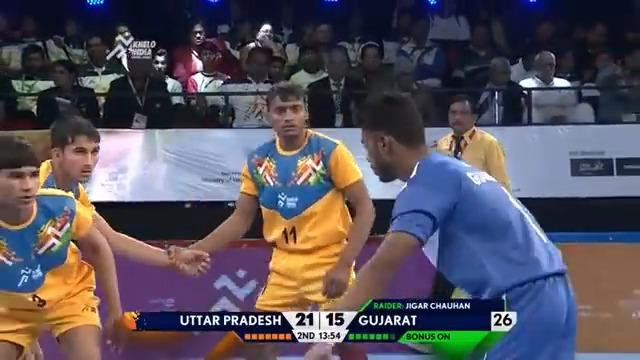Player: (174, 80, 376, 358), (33, 114, 211, 356), (0, 133, 125, 359)
Raider: (303, 90, 578, 359)
referee: (428, 93, 512, 194), (101, 40, 173, 128), (517, 49, 578, 124), (474, 56, 528, 125)
